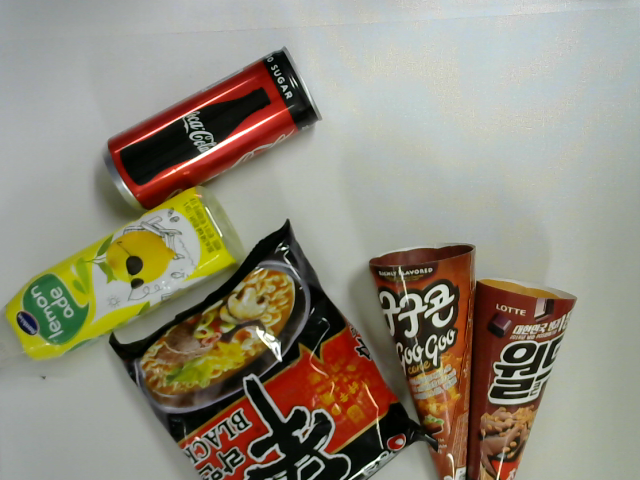Coca_Cola_Zero_Can_250ml: (100, 45, 324, 221)
GooGoo_Cone_CVS: (366, 241, 476, 480)
Sinramen_Black: (107, 219, 423, 480)
Sunkist_Lemonaid_Pet: (1, 185, 248, 366)
World_Cone_Choco: (465, 275, 584, 480)
